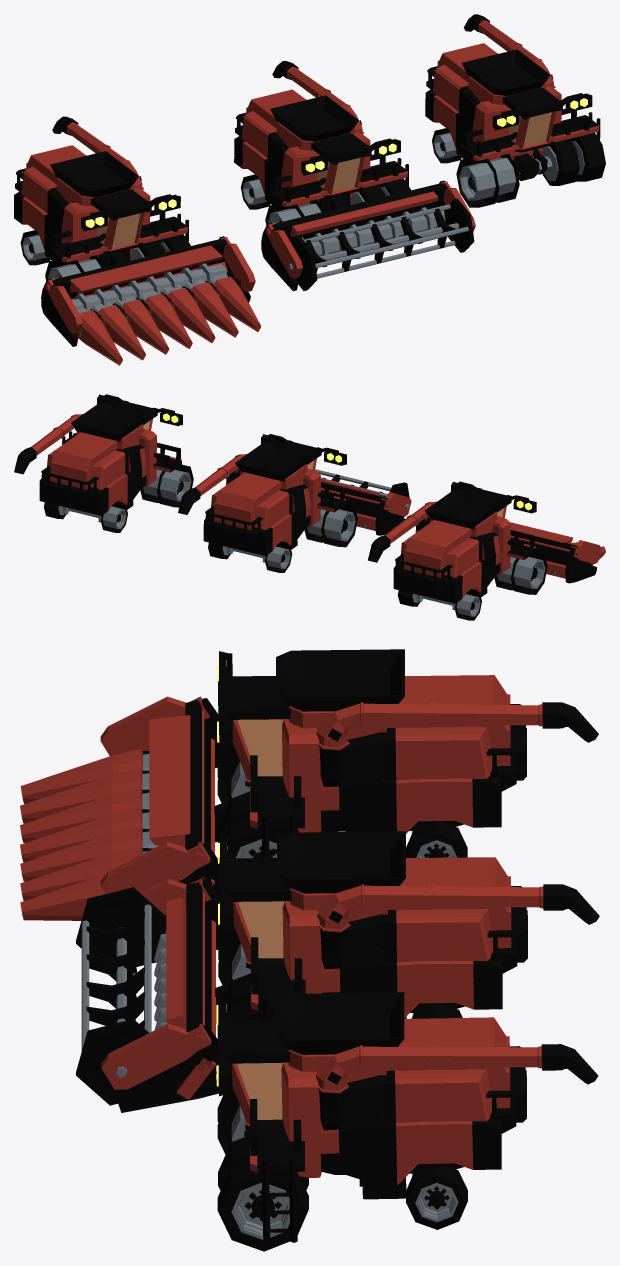
The model's file is low-poly-combine-harvestors.glb.
3 views of the same model, one above another, from view 1: azimuth 30°, elevation 25°; view 2: azimuth 150°, elevation 25°; view 3: azimuth 270°, elevation 25° (orthographic). The views are drawn at different scales.
Parts seen in each view (by area): view 1: Cube.026, Cube.146, Cube.190, Cube.038, Cube.107, Cube.001, Cube.155, Cube.106, Cube.156, Cube.002, Cube.104, Cube.195 (+23 smaller); view 2: Cube.026, Cube.002, Cube.156, Cube.036, Cube.188, Cube.038, Cube.190, Cube.157, Cube.003, Cube.048, Cube.200, Cube.104 (+21 smaller); view 3: Cube.026, Cube.146, Cube.156, Cube.002, Cube.190, Cube.038, Cube.040, Cube.192, Cube.107, Cube.001, Cube.155, Cube.157 (+23 smaller).
Part boxes in pixels (bbox=[...]): Cube.026: bbox=[234, 61, 475, 291]; Cube.146: bbox=[76, 276, 260, 365]; Cube.190: bbox=[462, 49, 550, 96]; Cube.038: bbox=[50, 151, 138, 197]; Cube.107: bbox=[70, 245, 222, 293]; Cube.001: bbox=[91, 189, 147, 253]; Cube.155: bbox=[502, 87, 558, 152]; Cube.106: bbox=[72, 263, 226, 310]; Cube.156: bbox=[425, 53, 498, 150]; Cube.002: bbox=[14, 155, 86, 252]; Cube.104: bbox=[52, 238, 227, 298]; Cube.195: bbox=[475, 86, 561, 160]; Cube.026: bbox=[178, 434, 411, 572]; Cube.002: bbox=[393, 536, 484, 603]; Cube.156: bbox=[39, 448, 130, 515]; Cube.036: bbox=[404, 520, 471, 577]; Cube.188: bbox=[50, 432, 117, 489]; Cube.038: bbox=[424, 489, 500, 529]; Cube.190: bbox=[71, 402, 147, 441]; Cube.157: bbox=[123, 444, 146, 502]; Cube.003: bbox=[477, 532, 500, 589]; Cube.048: bbox=[513, 557, 545, 588]; Cube.200: bbox=[159, 469, 191, 501]; Cube.104: bbox=[426, 517, 577, 565]; Cube.026: bbox=[76, 831, 599, 1112]; Cube.146: bbox=[20, 748, 143, 920]; Cube.156: bbox=[381, 1069, 501, 1186]; Cube.002: bbox=[382, 727, 501, 833]; Cube.190: bbox=[275, 992, 404, 1054]; Cube.038: bbox=[276, 649, 404, 711]; Cube.040: bbox=[316, 702, 542, 786]; Cube.192: bbox=[316, 1044, 541, 1130]; Cube.107: bbox=[149, 715, 190, 846]; Cube.001: bbox=[218, 676, 290, 786]; Cube.155: bbox=[217, 1019, 290, 1130]; Cube.157: bbox=[320, 1075, 383, 1186].
Bounding box in the file's own units: 1597 × 298 × 814.
